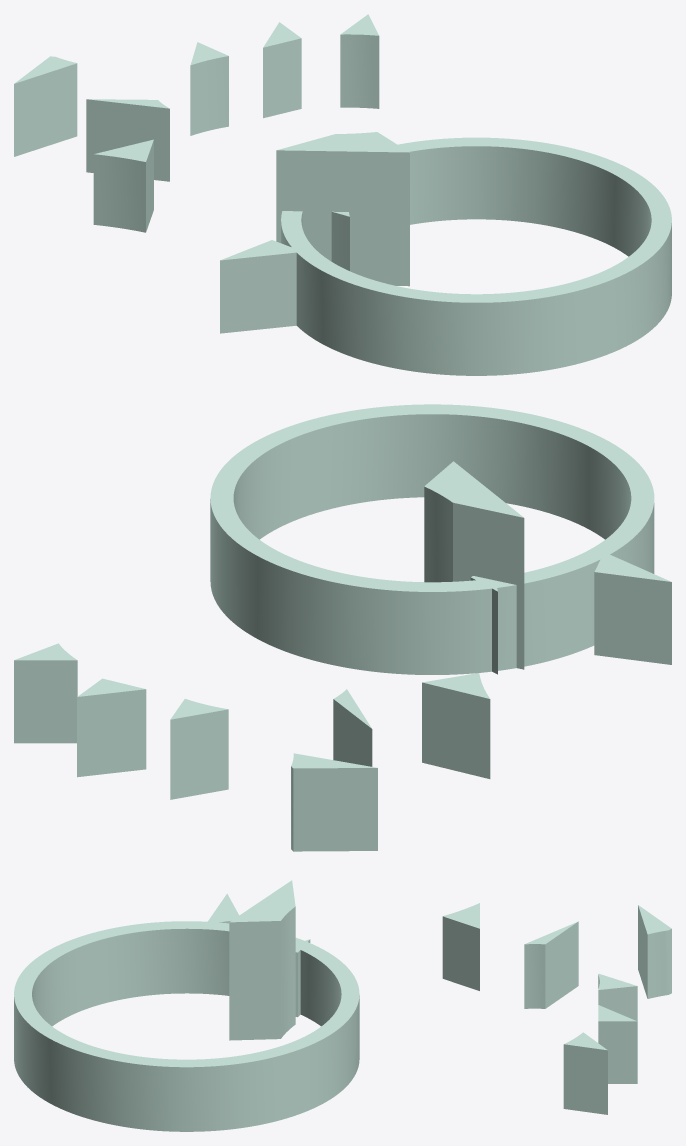
3 renders of one model, top to bottom at view 1: azimuth 30°, elevation 25°; view 2: azimuth 150°, elevation 25°; view 3: azimuth 270°, elevation 25°, orthographic. The views are drawn at different scales.
Visible parts, largest first — view 1: Renderer Node; view 2: Renderer Node; view 3: Renderer Node.
Part boxes in pixels (bbox=[...]): Renderer Node: bbox=[14, 14, 671, 375]; Renderer Node: bbox=[14, 404, 671, 851]; Renderer Node: bbox=[14, 880, 671, 1131].
Bounding box in the file's own units: 1.31 × 0.4141 × 2.09.
